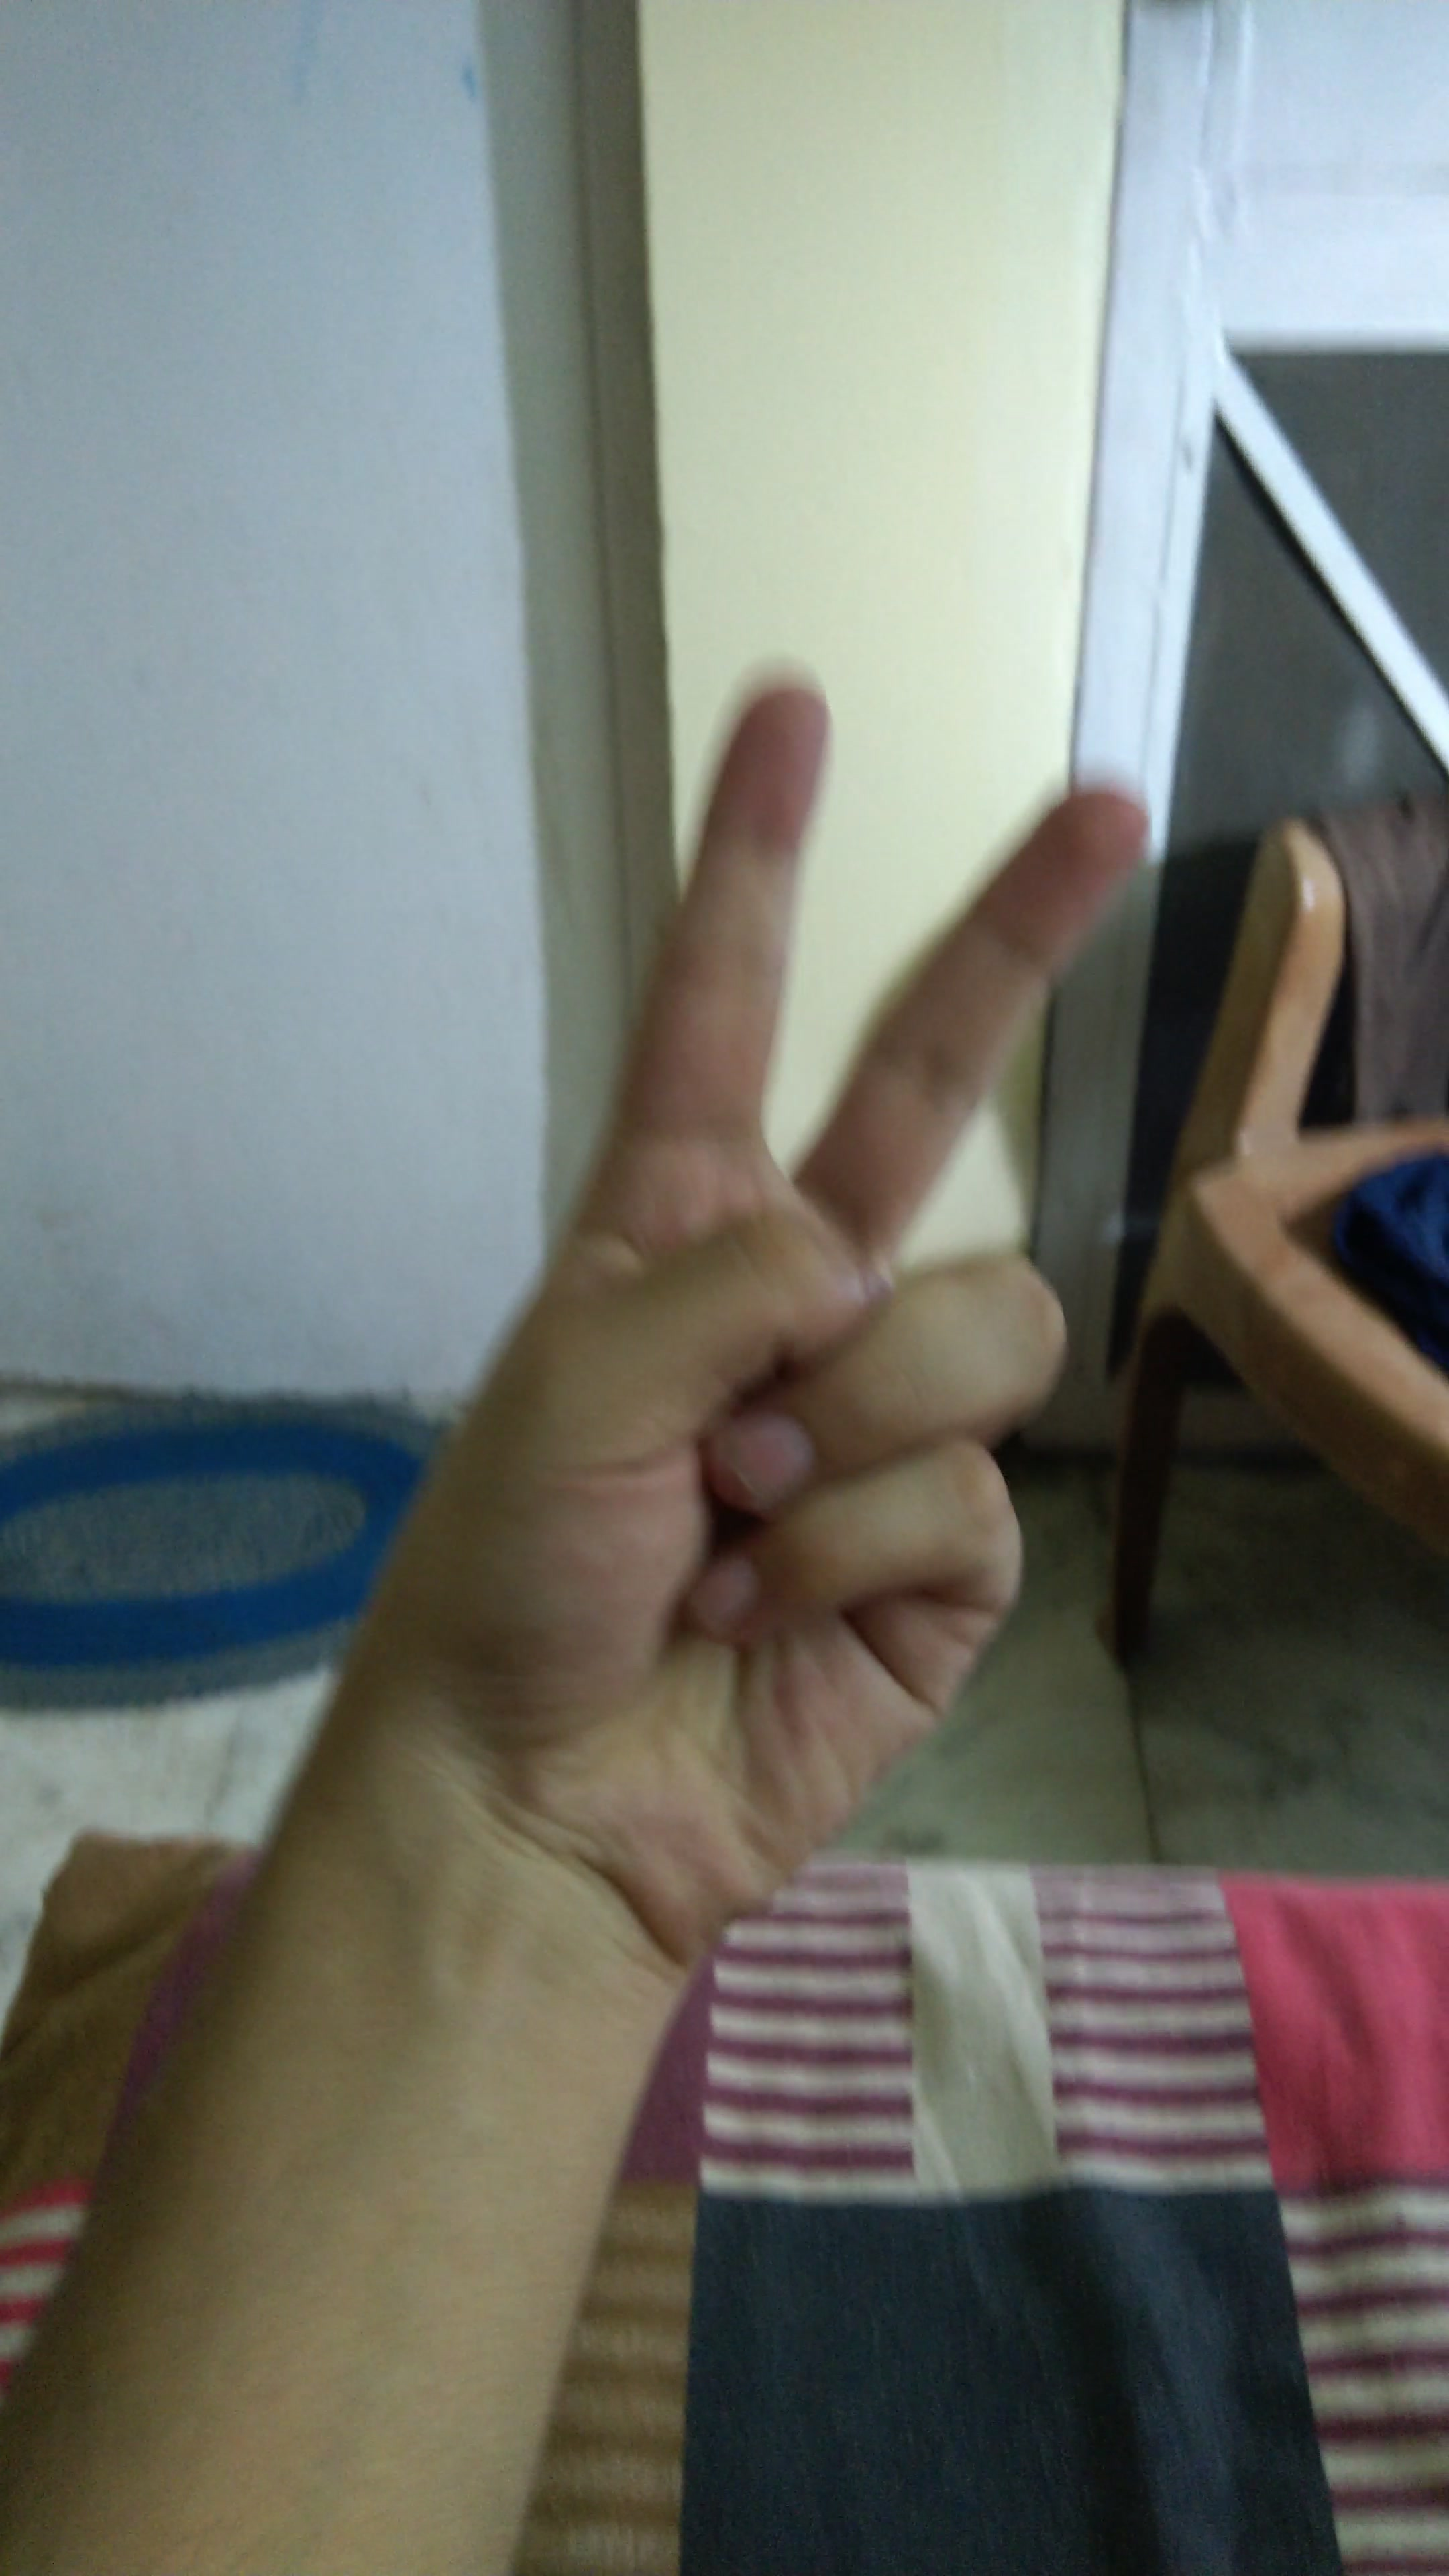hand: (253, 655, 1269, 1985)
